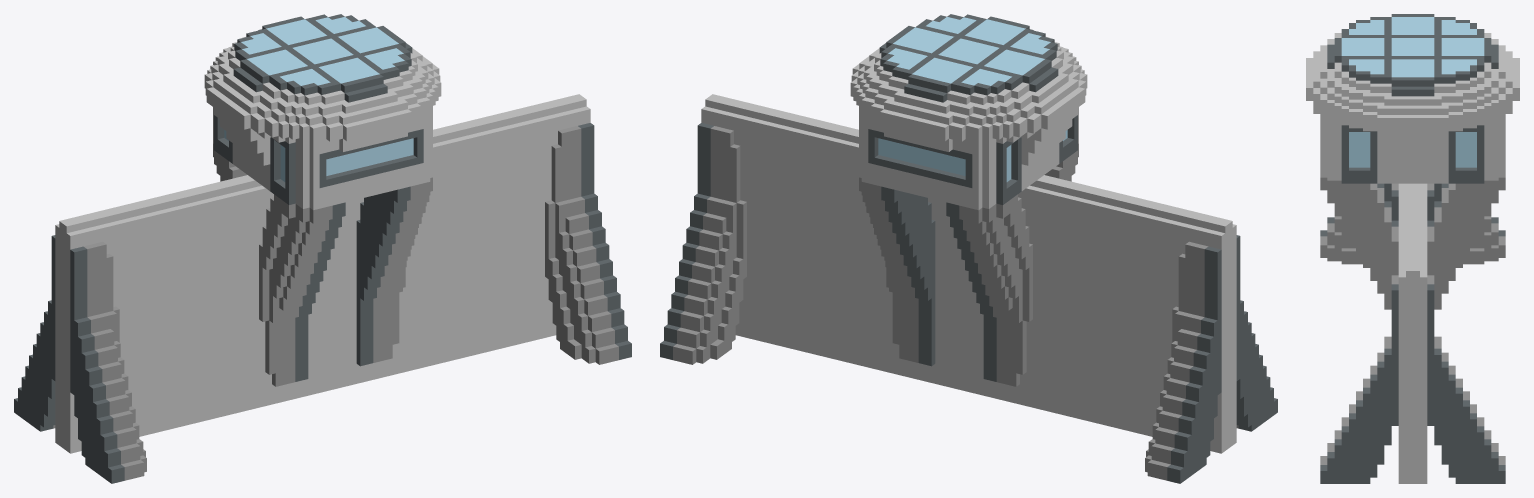
The model's file is wall4_straight.obj.
The picture shows the model from 3 angles, left to right: view 1: azimuth 30°, elevation 25°; view 2: azimuth 150°, elevation 25°; view 3: azimuth 270°, elevation 25°; orthographic projection. The views are drawn at different scales.
Bounding box in the file's own units: 8 × 4.9 × 3.
Materials: 1 (1 with a texture image).
